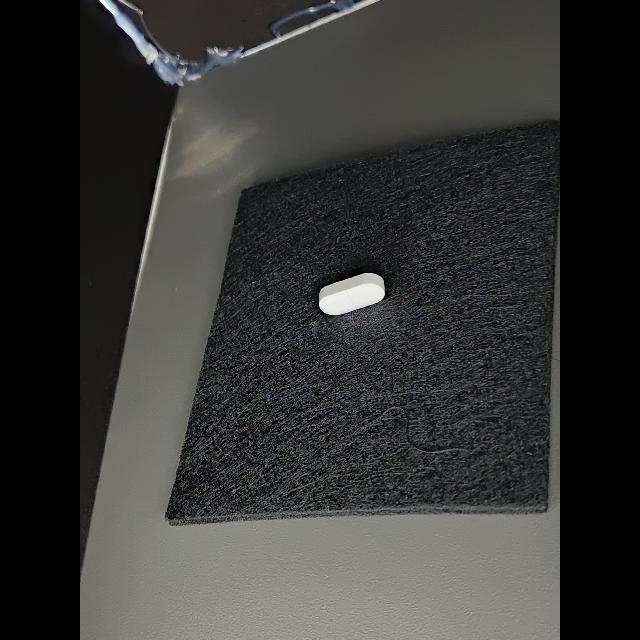Intact Pill: (319, 273, 385, 315)
